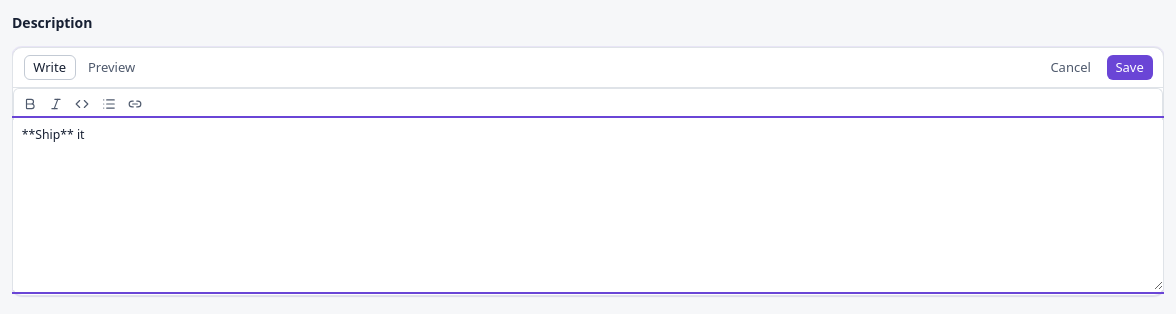
Test: IssueDescriptionSection › renders markdown in preview while editing
The image size is (1176, 314).
Click the button "Preview": coordinates (112, 67) [79,55,144,80]
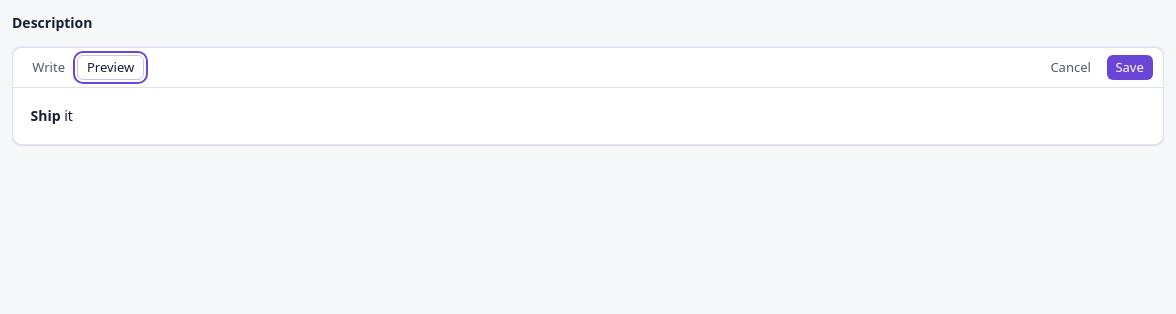
Check: the text "Ship" is shown, box [30,106,60,125]
